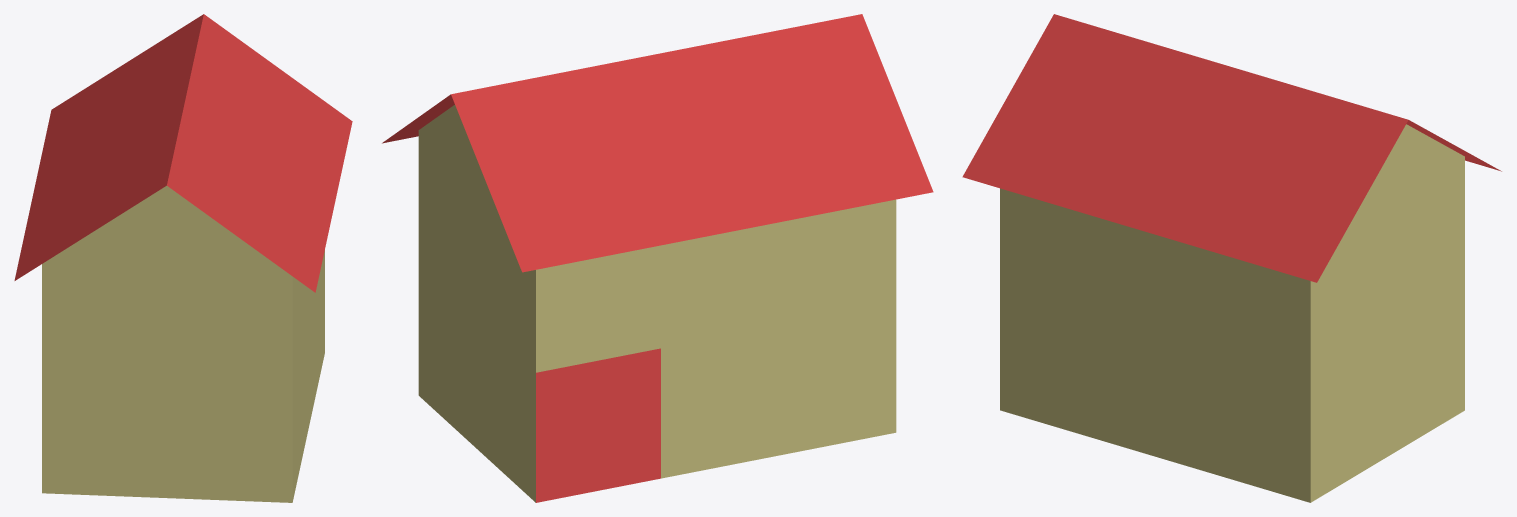
The picture shows the model from 3 angles, left to right: view 1: azimuth 30°, elevation 25°; view 2: azimuth 150°, elevation 25°; view 3: azimuth 270°, elevation 25°; orthographic projection. The views are drawn at different scales.
Size of the model in its own units: 19.02 by 20.02 by 14.07.
